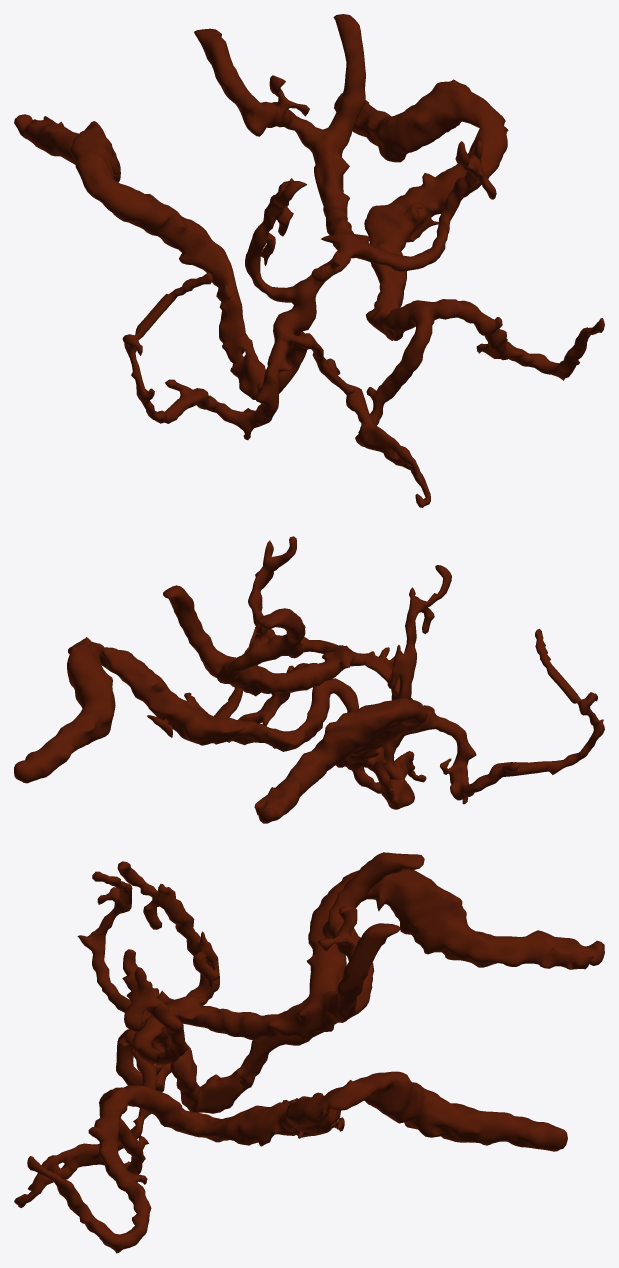
File: Arteries.obj
The picture shows the model from 3 angles, top to bottom: view 1: azimuth 30°, elevation 25°; view 2: azimuth 150°, elevation 25°; view 3: azimuth 270°, elevation 25°; orthographic projection. The views are drawn at different scales.
Visible parts, largest first — view 1: grp1; view 2: grp1; view 3: grp1.
Boxes of the visible parts, bbox=[...] form: grp1: bbox=[14, 14, 604, 507]; grp1: bbox=[14, 536, 604, 823]; grp1: bbox=[14, 852, 604, 1253].
Bounding box in the file's own units: 88.49 × 58.57 × 92.18.
